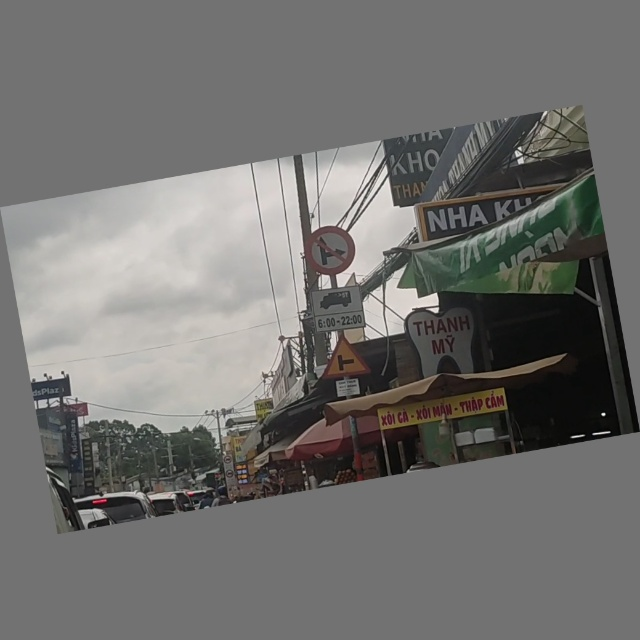P.139: (301, 221, 358, 279)
S.505a*Xe tai: (310, 284, 367, 336)
W.205b: (319, 333, 372, 381)
